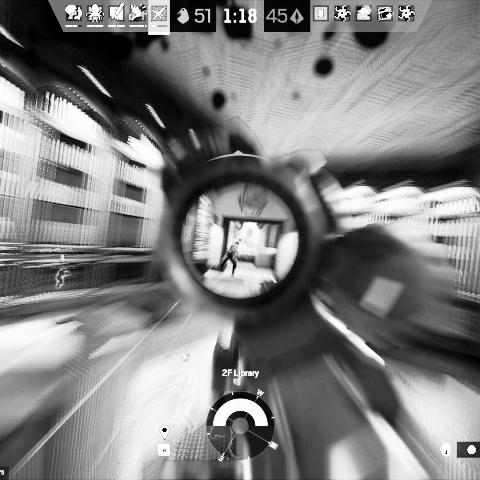Character: (217, 240, 241, 278)
Friend_label: (165, 352, 202, 373), (224, 374, 254, 396), (48, 253, 77, 271)
Head: (234, 241, 239, 248)
